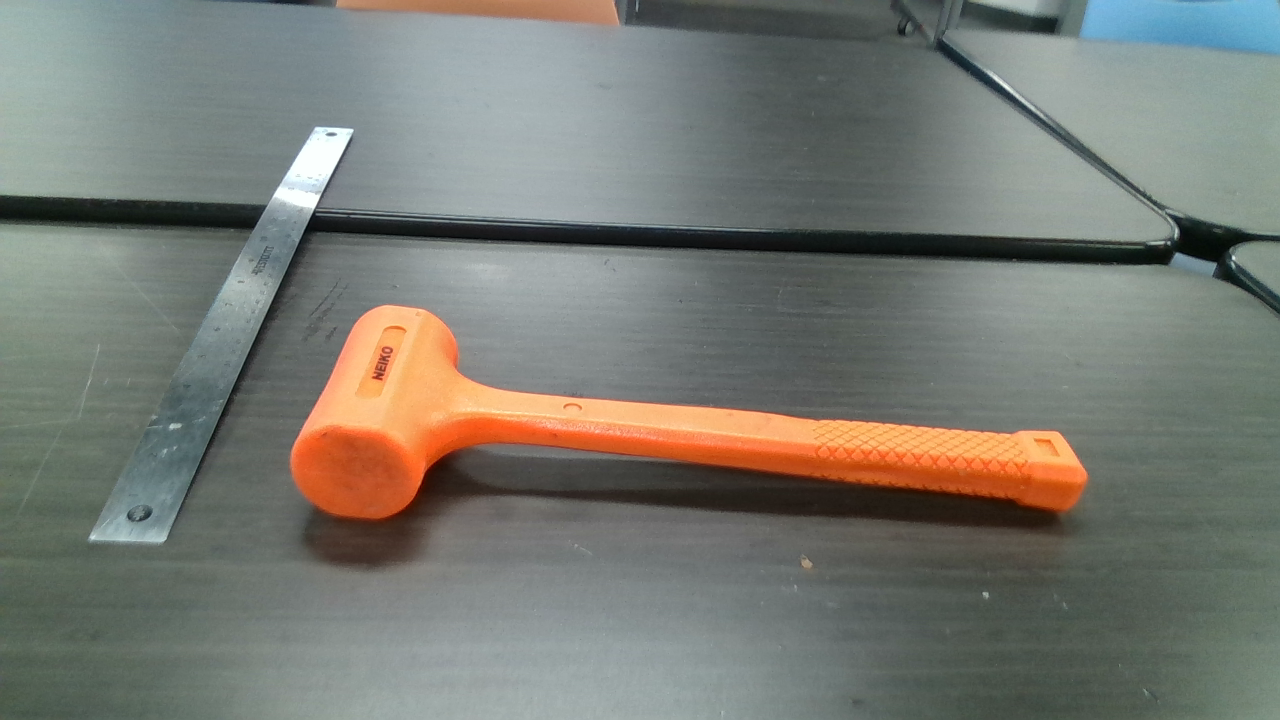Orange Hammer: (299, 304, 1083, 523)
